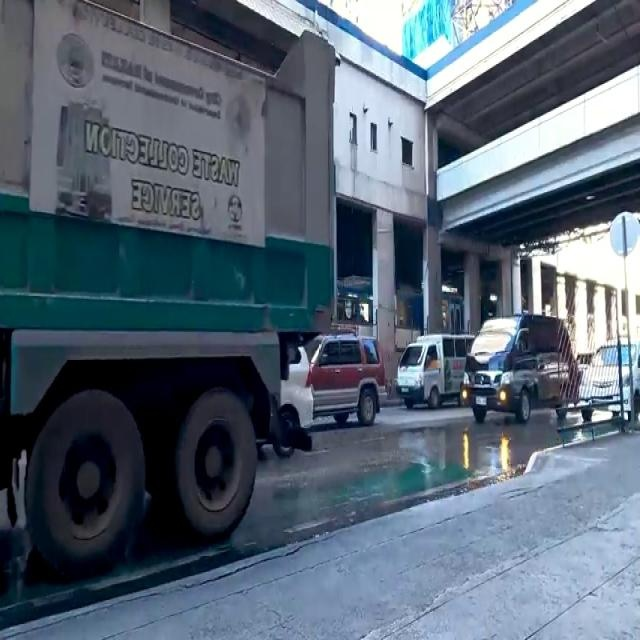car: (467, 317, 573, 425), (393, 339, 476, 417), (312, 342, 379, 419), (573, 343, 640, 413)
truck: (0, 42, 325, 556)
